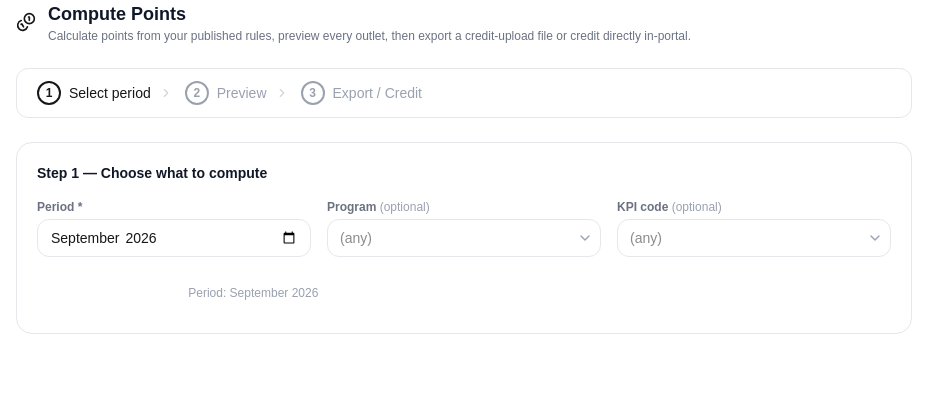
Scenario: Points Engine compute page › PE-C11: the Program filter is a searchable dropdown listing the tenant's configured programs
Click the dropdown with test id "pe-program-input" at {"x": 464, "y": 238}, box left=327, top=219, right=601, bottom=257
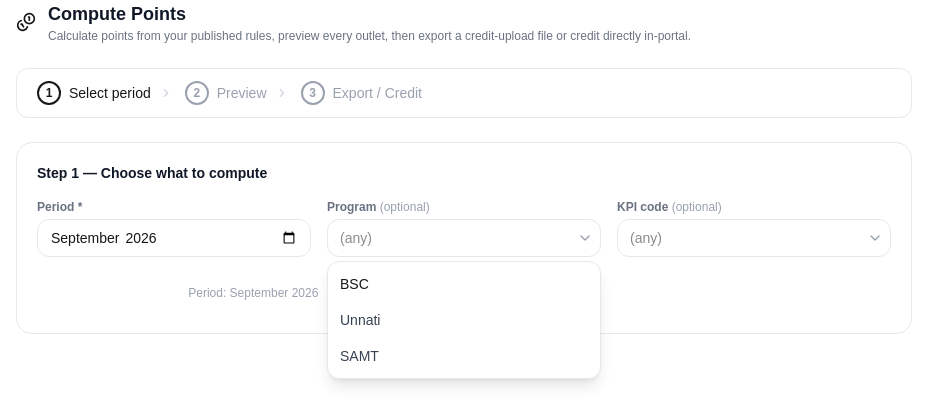
Expected: the option with test id "pe-program-option-Unnati" is shown, left=340, top=312, right=380, bottom=328
Expected: the option with test id "pe-program-option-BSC" is shown, left=340, top=276, right=369, bottom=292
Expected: the option with test id "pe-program-option-SAMT" is shown, left=340, top=348, right=379, bottom=364
